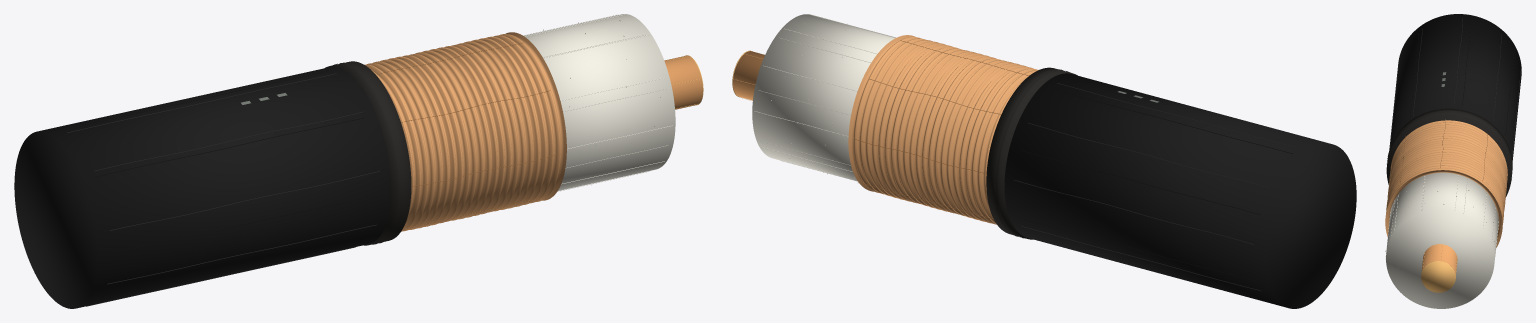
Rendered from rf-ldf2-macro.glb.
The picture shows the model from 3 angles, left to right: view 1: azimuth 30°, elevation 25°; view 2: azimuth 150°, elevation 25°; view 3: azimuth 270°, elevation 25°; orthographic projection. The views are drawn at different scales.
Visible parts, largest first — view 1: macro hardline jacket body, annular corrugated solid shield, macro foam dielectric exposed core, hardline jacket cut wall, polished solid center conductor, rounded jacket cut lip; view 2: macro hardline jacket body, annular corrugated solid shield, macro foam dielectric exposed core, hardline jacket cut wall, polished solid center conductor, rounded jacket cut lip; view 3: macro hardline jacket body, macro foam dielectric exposed core, annular corrugated solid shield, hardline jacket cut wall, polished conductor cut face glow, polished solid center conductor, rounded jacket cut lip.
Boxes of the visible parts, x1,y1,x2,y2 form: macro hardline jacket body: [14, 66, 390, 308]; annular corrugated solid shield: [364, 32, 566, 231]; macro foam dielectric exposed core: [524, 14, 675, 190]; hardline jacket cut wall: [325, 61, 411, 245]; polished solid center conductor: [664, 55, 702, 109]; rounded jacket cut lip: [333, 62, 402, 244]; macro hardline jacket body: [1004, 73, 1356, 308]; annular corrugated solid shield: [848, 35, 1038, 224]; macro foam dielectric exposed core: [752, 14, 895, 181]; hardline jacket cut wall: [986, 67, 1077, 239]; polished solid center conductor: [733, 51, 764, 100]; rounded jacket cut lip: [994, 69, 1069, 238]; macro hardline jacket body: [1389, 14, 1521, 162]; macro foam dielectric exposed core: [1386, 172, 1498, 308]; annular corrugated solid shield: [1385, 120, 1507, 247]; hardline jacket cut wall: [1386, 108, 1512, 197]; polished conductor cut face glow: [1421, 261, 1455, 292]; polished solid center conductor: [1421, 244, 1457, 274]; rounded jacket cut lip: [1387, 110, 1512, 180].
Bounding box in the file's own units: 11.64 × 2.98 × 3.23.
